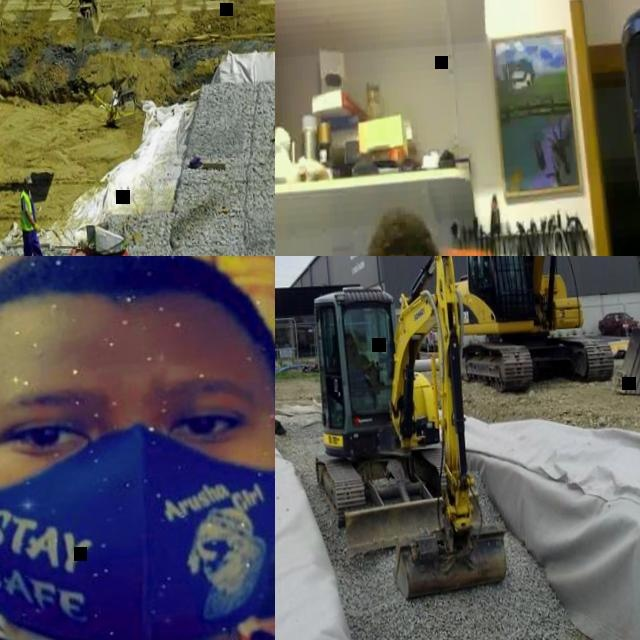Mask: (0, 414, 275, 640)
NO-Hardhat: (0, 256, 268, 382), (367, 211, 435, 256), (23, 174, 32, 185)
NO-Mask: (24, 187, 30, 191)
Person: (0, 256, 275, 640), (16, 172, 46, 256), (343, 330, 374, 389)
Safety Vest: (18, 191, 38, 232)
machinery: (298, 256, 511, 607), (435, 256, 640, 409), (0, 0, 116, 232)
vehicle: (597, 309, 640, 337)
